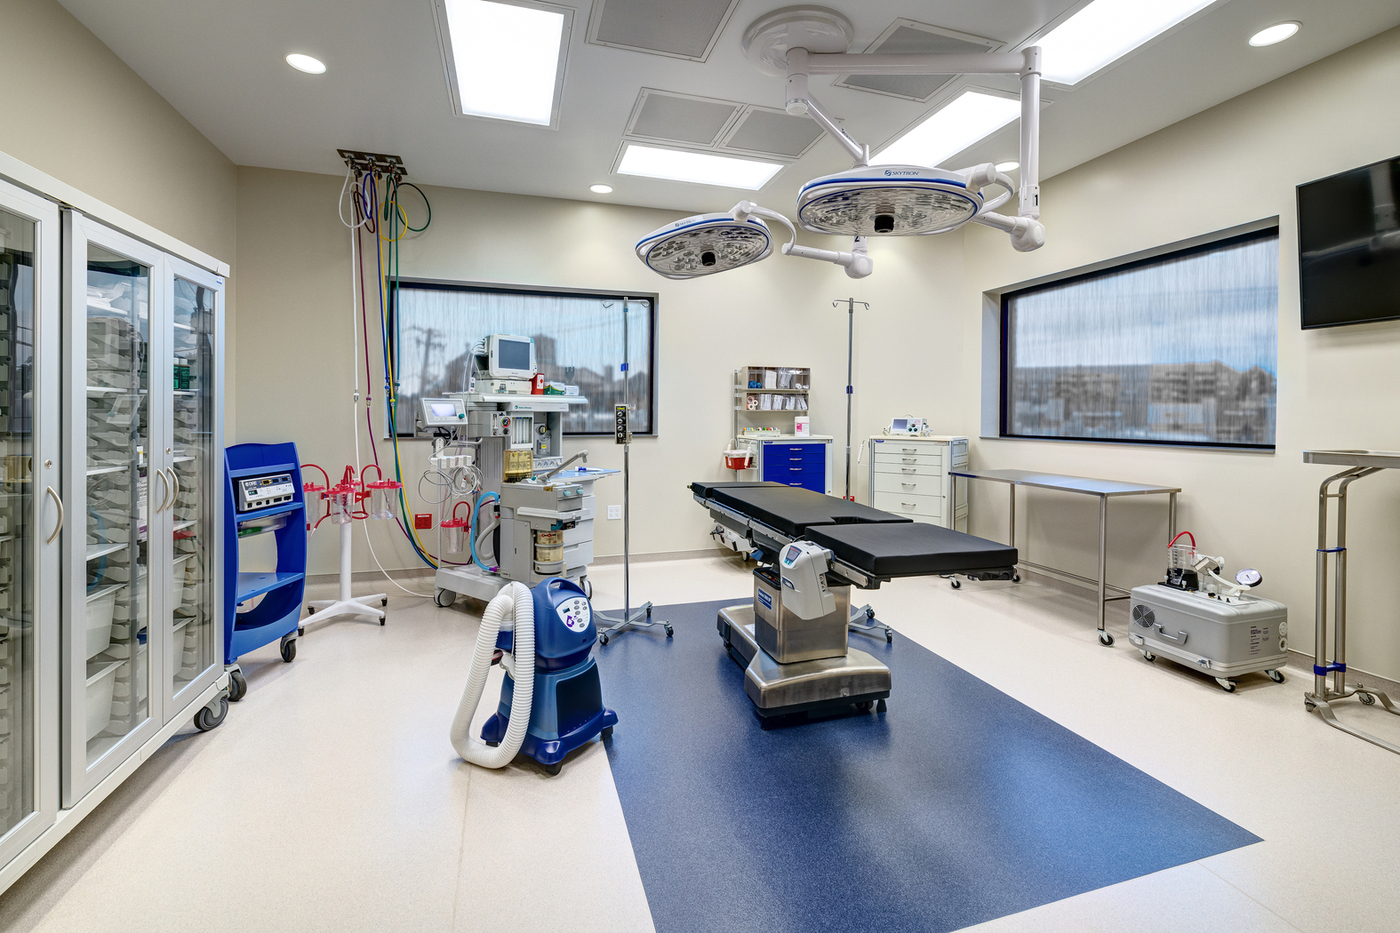TV: (1294, 142, 1400, 336)
bedside_monitor: (490, 332, 536, 378), (425, 395, 466, 428)
cabinet: (3, 158, 241, 897)
electrosurgical_unit: (236, 475, 299, 509)
handle: (45, 479, 72, 551), (166, 466, 182, 516), (152, 466, 169, 516), (897, 501, 917, 507), (899, 481, 919, 487), (900, 448, 920, 454), (899, 466, 918, 472), (900, 458, 918, 463), (789, 447, 804, 453), (787, 458, 804, 463), (789, 482, 803, 487), (788, 466, 803, 471)
iv_pole: (600, 294, 660, 611), (831, 294, 870, 505)
medical_drawer: (866, 432, 971, 591), (735, 431, 835, 495)
operating_bed: (684, 475, 1023, 730)
surgical_light: (797, 167, 992, 242), (629, 202, 777, 284)
utility_cart: (948, 466, 1181, 648), (1300, 438, 1400, 770)
ventilator: (415, 388, 621, 606)
